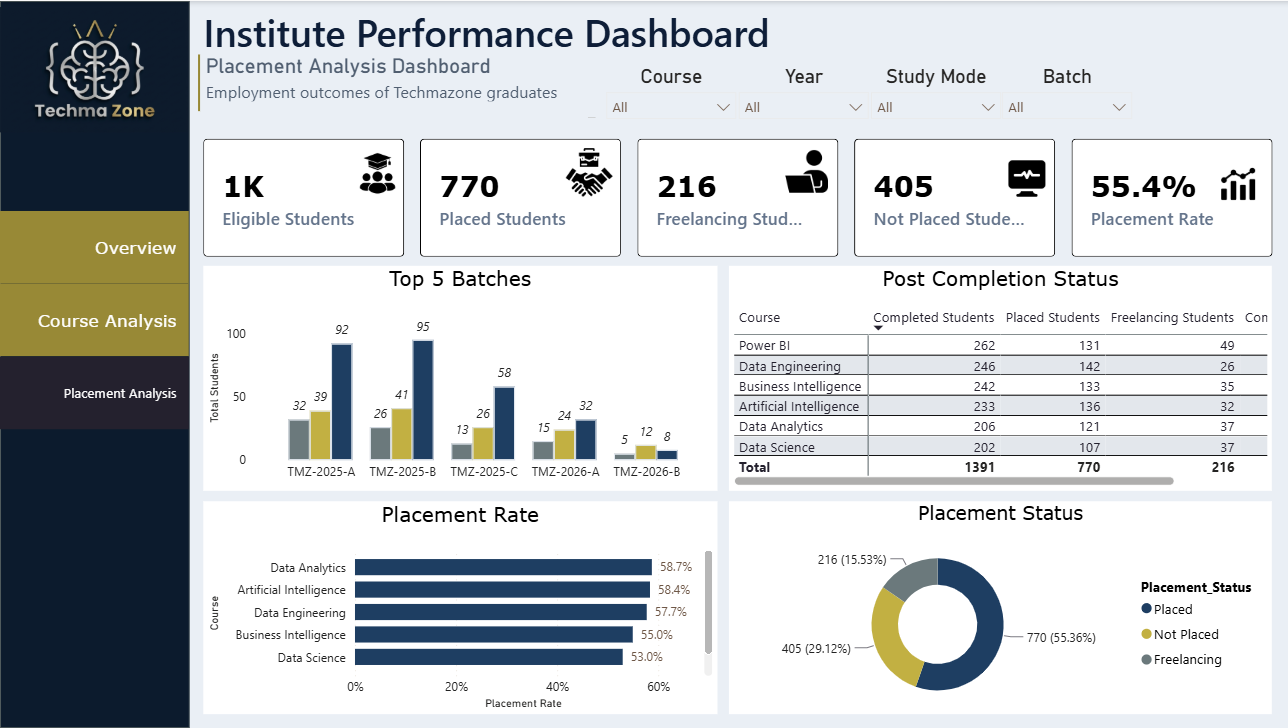

The dashboard page shown, as its layout file describes it:
{"tool":"powerbi","page":{"name":"Placement Analysis","canvas":[1280,720],"ordinal":2},"visuals":[{"type":"shape","box":[0,0,188,720],"z":0},{"type":"cardVisual","fields":{"Data":["Techmazone.Eligible Students","Techmazone.Placed Students","Techmazone.Freelancing Students","Techmazone.Not Placed Students","Techmazone.Placement Rate"]},"box":[183.6,118.6,1095.9,151.8],"z":0,"group":"g1"},{"type":"slicer","title":"Course","fields":{"Values":["Techmazone.Course"]},"box":[591.3,63.6,148.3,74.4],"z":1000},{"type":"image","box":[542.7,145.3,81,47.8],"z":1000,"group":"g1"},{"type":"textbox","box":[161.9,0,607.2,82.4],"z":2000},{"type":"image","box":[341.2,149,63.6,41.9],"z":2000,"group":"g1"},{"type":"textbox","title":"Placement Analysis Dashboard","box":[199.1,53.5,396.1,68],"z":3000},{"type":"image","box":[771.1,143.8,53.3,48.9],"z":3000,"group":"g1"},{"type":"image","box":[996,151.1,42.2,45.6],"z":4000,"group":"g1"},{"type":"pageNavigator","box":[0,208.2,188,218.3],"z":4000},{"type":"image","box":[1197,163.6,57.7,33.3],"z":5000,"group":"g1"},{"type":"clusteredColumnChart","title":"Top 5 Batches","fields":{"Category":["Techmazone.Batch"],"Series":["Techmazone.Placement_Status"],"Y":["Techmazone.Total Students"]},"box":[201,261.7,508.9,222.7],"z":5000},{"type":"barChart","title":"Placement Rate","fields":{"Category":["Techmazone.Course"],"Y":["Techmazone.Placement Rate"]},"box":[201,495.9,508.9,211.1],"z":6000},{"type":"donutChart","title":"Placement Status","fields":{"Category":["Techmazone.Placement_Status"],"Y":["Techmazone.Total Students"]},"box":[721.4,495.9,537.8,211.1],"z":7000},{"type":"pivotTable","title":"Post Completion Status","fields":{"Rows":["Techmazone.Course"],"Values":["Techmazone.Completed Students","Techmazone.Placed Students","Techmazone.Freelancing Students","Techmazone.Completion Rate"]},"box":[721.4,261.7,537.8,222.7],"z":8000},{"type":"slicer","title":"Year","fields":{"Values":["Techmazone.Year"]},"box":[721.4,63.6,148.3,74.4],"z":9000},{"type":"slicer","title":"Study Mode","fields":{"Values":["Techmazone.Study Mode"]},"box":[853,63.6,148.3,74.4],"z":10000},{"type":"slicer","title":"Batch","fields":{"Values":["Techmazone.Batch"]},"box":[983.1,63.6,148.3,74.4],"z":11000},{"type":"image","box":[0,0,186.5,135.9],"z":12000},{"type":"shape","box":[176.4,53.5,41.9,56.4],"z":13000},{"type":"group","id":"g1","title":"Group 2","box":[183.6,118.6,1095.9,151.8],"z":14000}]}

Visuals, with their boxes in screenshot pixels (x1, y1, x2, y2), scaled from the page's 1280x720 canvas onto the 1288x728 screenshot:
shape: {"x1": 0, "y1": 0, "x2": 189, "y2": 727}
cardVisual - Techmazone.Eligible Students x Techmazone.Placed Students: {"x1": 185, "y1": 120, "x2": 1287, "y2": 273}
"Course" slicer: {"x1": 595, "y1": 64, "x2": 744, "y2": 140}
image: {"x1": 546, "y1": 147, "x2": 628, "y2": 195}
textbox: {"x1": 163, "y1": 0, "x2": 774, "y2": 83}
image: {"x1": 343, "y1": 151, "x2": 407, "y2": 193}
"Placement Analysis Dashboard" textbox: {"x1": 200, "y1": 54, "x2": 599, "y2": 123}
image: {"x1": 776, "y1": 145, "x2": 830, "y2": 195}
image: {"x1": 1002, "y1": 153, "x2": 1045, "y2": 199}
pageNavigator: {"x1": 0, "y1": 211, "x2": 189, "y2": 431}
image: {"x1": 1204, "y1": 165, "x2": 1263, "y2": 199}
"Top 5 Batches" clusteredColumnChart: {"x1": 202, "y1": 265, "x2": 714, "y2": 490}
"Placement Rate" barChart: {"x1": 202, "y1": 501, "x2": 714, "y2": 715}
"Placement Status" donutChart: {"x1": 726, "y1": 501, "x2": 1267, "y2": 715}
"Post Completion Status" pivotTable: {"x1": 726, "y1": 265, "x2": 1267, "y2": 490}
"Year" slicer: {"x1": 726, "y1": 64, "x2": 875, "y2": 140}
"Study Mode" slicer: {"x1": 858, "y1": 64, "x2": 1008, "y2": 140}
"Batch" slicer: {"x1": 989, "y1": 64, "x2": 1138, "y2": 140}
image: {"x1": 0, "y1": 0, "x2": 188, "y2": 137}
shape: {"x1": 178, "y1": 54, "x2": 220, "y2": 111}
"Group 2" group: {"x1": 185, "y1": 120, "x2": 1287, "y2": 273}
